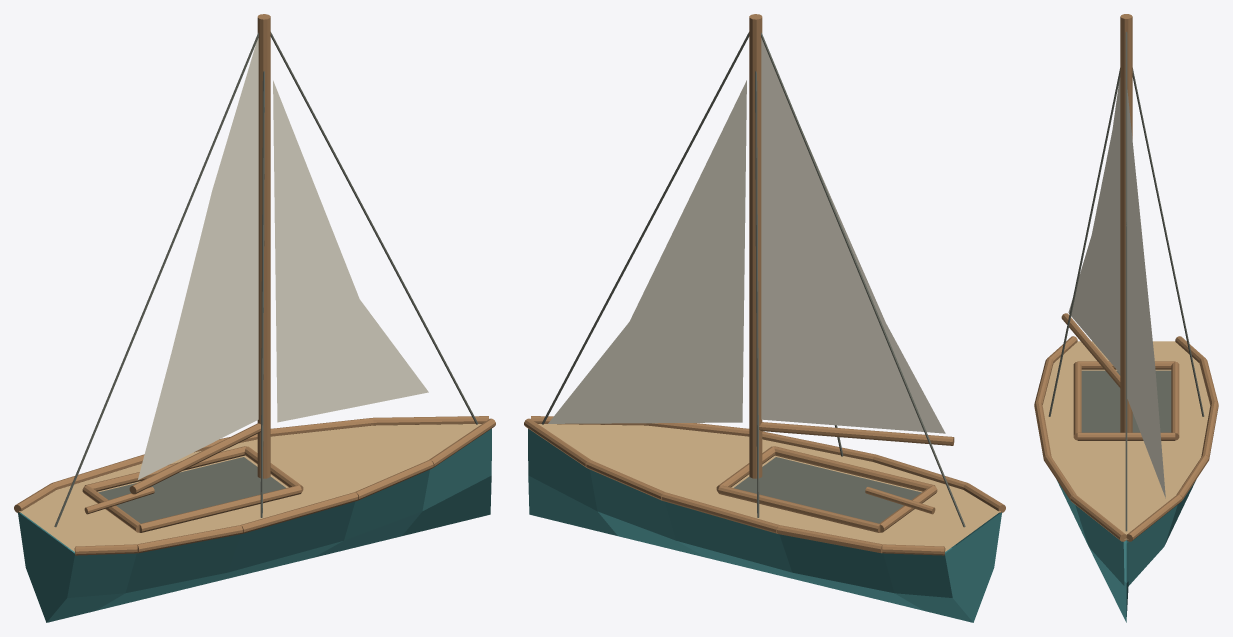
3 renders of one model, left to right at view 1: azimuth 30°, elevation 25°; view 2: azimuth 150°, elevation 25°; view 3: azimuth 270°, elevation 25°, orthographic. The views are drawn at different scales.
Visible parts, largest first — view 1: shaped hull, mainsail, jib, teak deck, cockpit, mast, cockpit coaming, rigging.001, boom, rigging, rigging.002, gunwale.002 (+7 smaller); view 2: mainsail, jib, shaped hull, teak deck, cockpit, mast, boom, cockpit coaming.001, cockpit coaming, rigging.001, rigging, rigging.003 (+7 smaller); view 3: teak deck, mainsail, jib, shaped hull, cockpit, mast, rigging, rigging.002, rigging.003, boom, cockpit coaming.003, cockpit coaming (+10 smaller).
Part boxes in pixels (<box>): shaped hull: <box>18,428,491,622</box>; mainsail: <box>138,38,258,479</box>; jib: <box>273,80,428,422</box>; teak deck: <box>19,424,481,551</box>; cockpit: <box>98,457,285,523</box>; mast: <box>257,14,270,478</box>; cockpit coaming: <box>139,485,301,532</box>; rigging.001: <box>54,32,258,527</box>; boom: <box>129,423,260,494</box>; rigging: <box>270,32,478,424</box>; rigging.002: <box>260,71,264,517</box>; gunwale.002: <box>240,492,358,533</box>; mainsail: <box>761,38,945,433</box>; jib: <box>548,80,746,423</box>; shaped hull: <box>528,428,1001,622</box>; teak deck: <box>538,424,1000,551</box>; cockpit: <box>734,457,921,523</box>; mast: <box>749,14,762,478</box>; boom: <box>759,422,954,445</box>; cockpit coaming.001: <box>718,485,880,532</box>; cockpit coaming: <box>774,446,935,491</box>; rigging.001: <box>761,32,965,527</box>; rigging: <box>541,32,749,424</box>; rigging.003: <box>755,71,759,517</box>; teak deck: <box>1042,341,1210,539</box>; mainsail: <box>1068,78,1120,373</box>; jib: <box>1127,90,1165,498</box>; shaped hull: <box>1057,480,1195,622</box>; cockpit: <box>1081,370,1171,432</box>; mast: <box>1120,14,1132,432</box>; rigging: <box>1125,32,1127,531</box>; rigging.002: <box>1048,68,1120,416</box>; rigging.003: <box>1132,68,1204,416</box>; boom: <box>1061,313,1120,387</box>; cockpit coaming.003: <box>1077,432,1175,440</box>; cockpit coaming: <box>1073,361,1081,440</box>.
Bounding box in the file's own units: 5.04 × 5.95 × 1.97.
